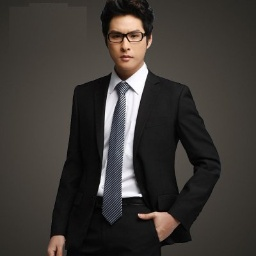face: (99, 2, 155, 72)
